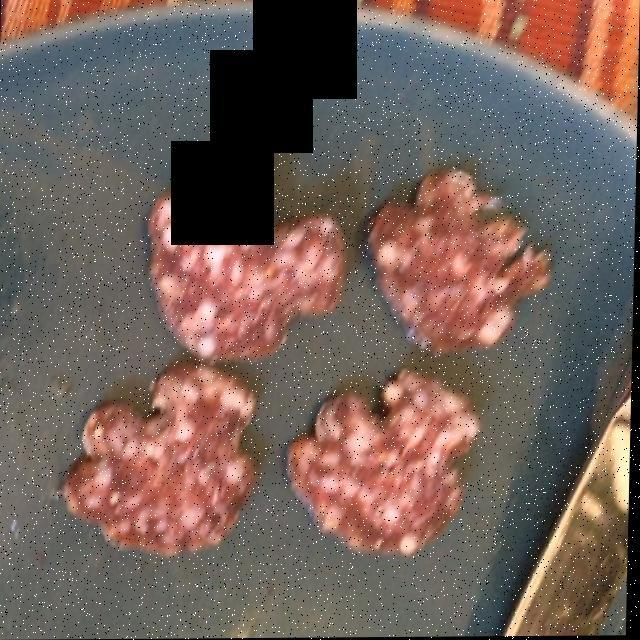sausage: (65, 167, 559, 548)
